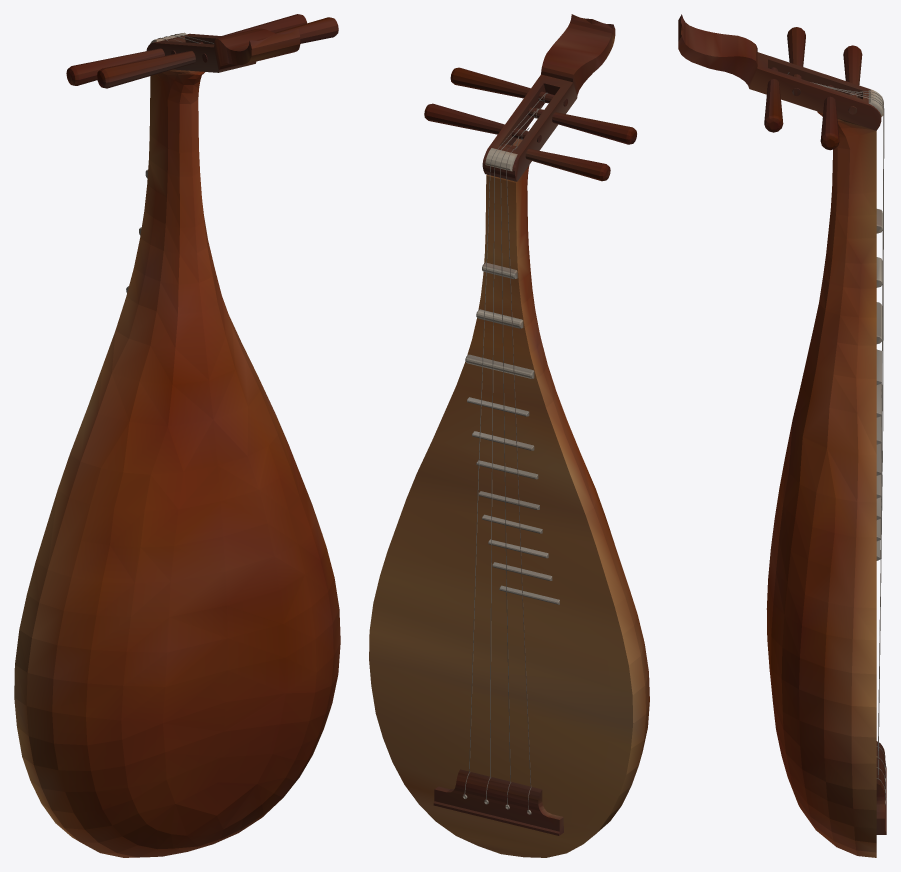
File: bipa_233ee93c.glb
The picture shows the model from 3 angles, left to right: view 1: azimuth 30°, elevation 25°; view 2: azimuth 150°, elevation 25°; view 3: azimuth 270°, elevation 25°; orthographic projection. The views are drawn at different scales.
Visible parts, largest first — view 1: Bipa_Bipa_mat_0; view 2: Bipa_Bipa_mat_0; view 3: Bipa_Bipa_mat_0.
Boxes of the visible parts, <box> form: Bipa_Bipa_mat_0: <box>14,14,340,857</box>; Bipa_Bipa_mat_0: <box>369,14,649,857</box>; Bipa_Bipa_mat_0: <box>678,14,886,857</box>.
Size of the model in its own units: 0.3507 by 0.9655 by 0.2235.
